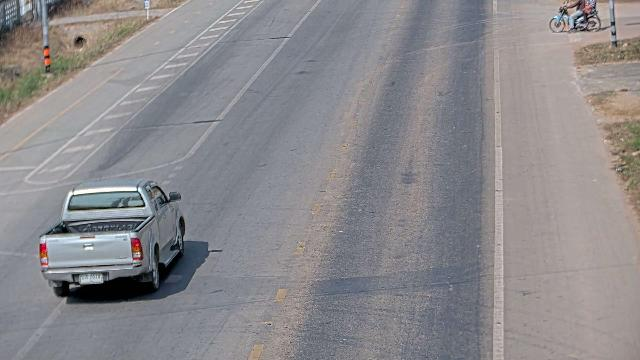pickup-truck: (38, 177, 186, 297)
